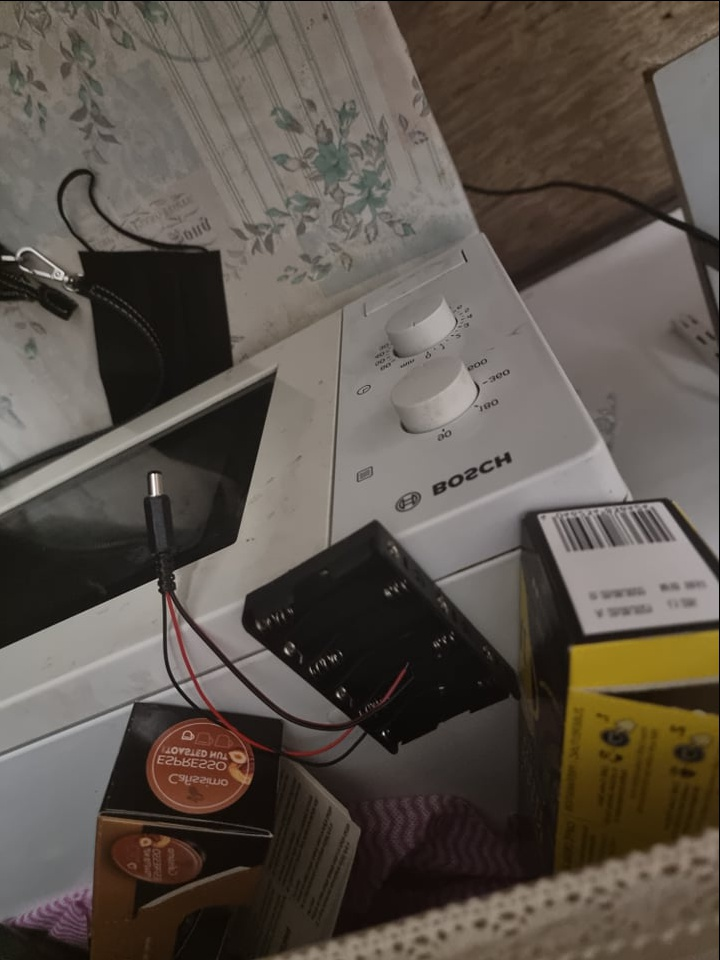BATTERY BOX: (245, 519, 519, 755)
